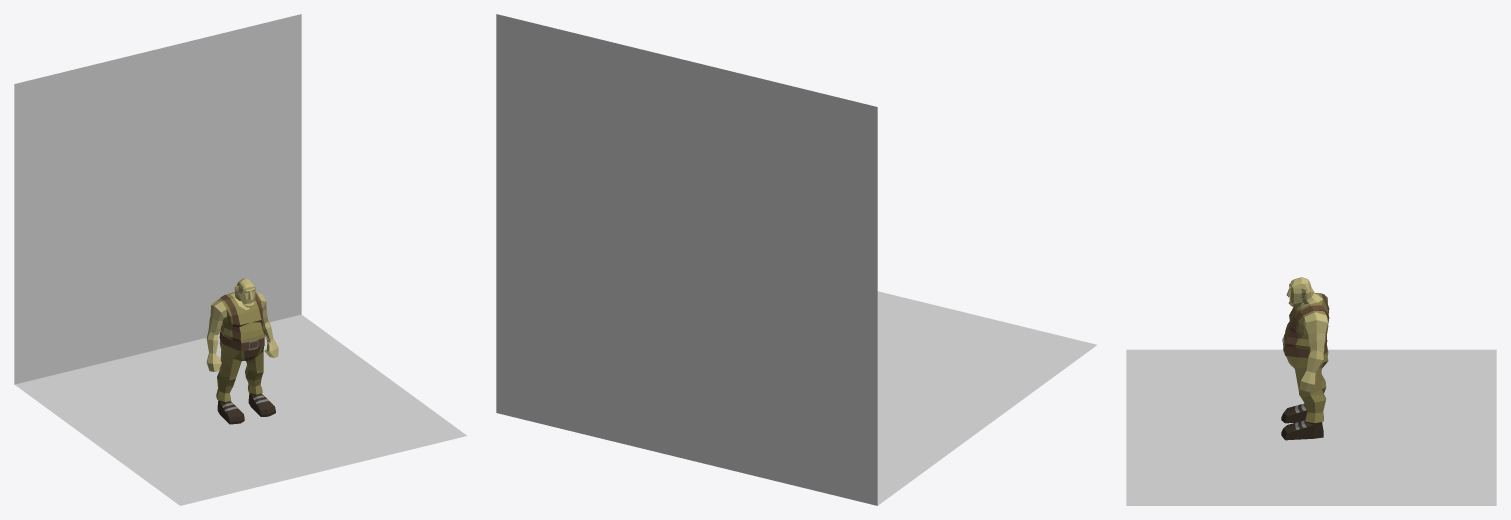
File: on_the_run.glb
3 renders of one model, left to right at view 1: azimuth 30°, elevation 25°; view 2: azimuth 150°, elevation 25°; view 3: azimuth 270°, elevation 25°, orthographic. The views are drawn at different scales.
Visible parts, largest first — view 1: Plane, jailor; view 2: Plane; view 3: Plane, jailor.
Part boxes in pixels (bbox=[...]): Plane: bbox=[14, 14, 466, 505]; jailor: bbox=[206, 278, 278, 424]; Plane: bbox=[496, 14, 1096, 505]; Plane: bbox=[1126, 349, 1496, 505]; jailor: bbox=[1281, 277, 1329, 440].
Size of the model in its own units: 4 by 4 by 4.
Materials: 2 (1 with a texture image).
